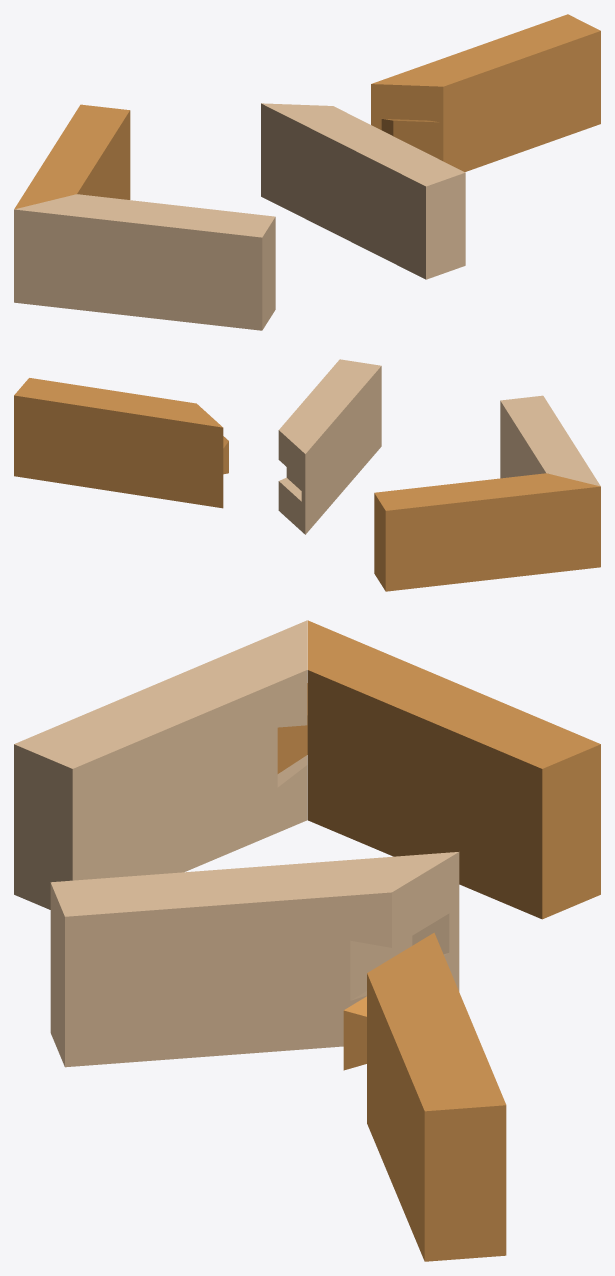
The picture shows the model from 3 angles, top to bottom: view 1: azimuth 30°, elevation 25°; view 2: azimuth 150°, elevation 25°; view 3: azimuth 270°, elevation 25°; orthographic projection. The views are drawn at different scales.
Size of the model in its own units: 14 by 2 by 7.07.
